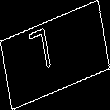L_S: (41, 27, 69, 83)
